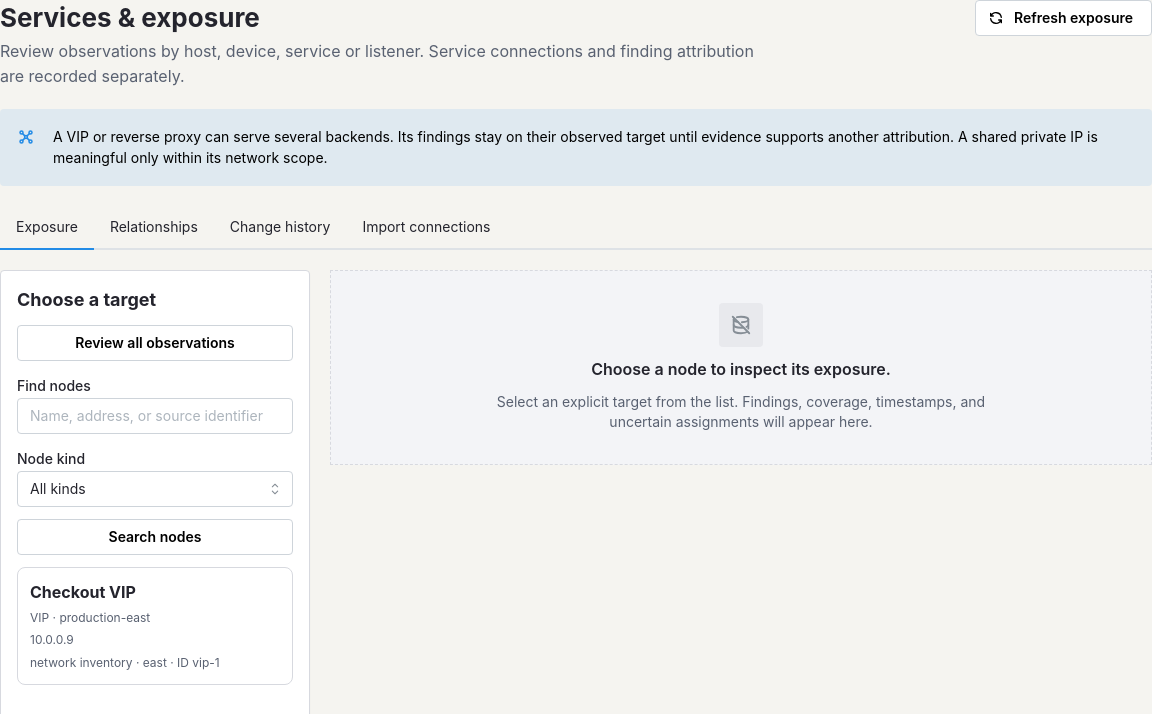
Test: service exposure › can return uncertain evidence to review without choosing a target
This screenshot has width=1152, height=714.
Click the button with aria-label "Select Checkout VIP". click: [83, 592]
box: [17,567,293,685]
(page scrolled)
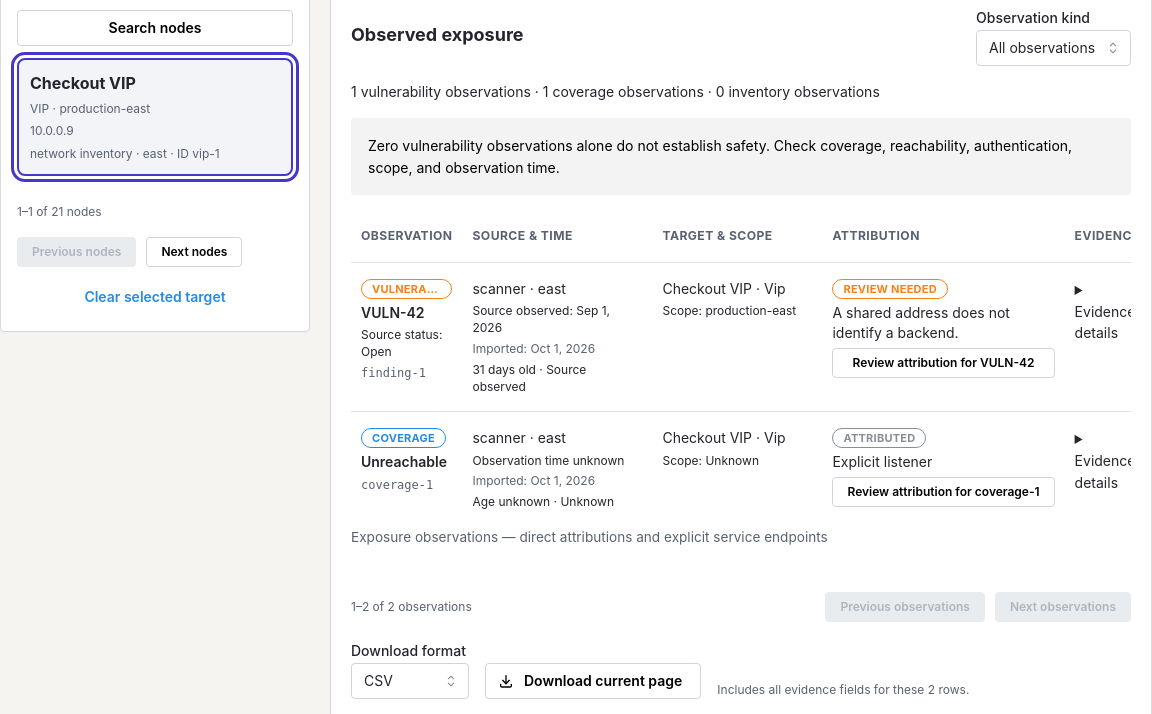
Click the button "Review attribution for VULN-42". click: [944, 363]
box: [832,348,1055,378]
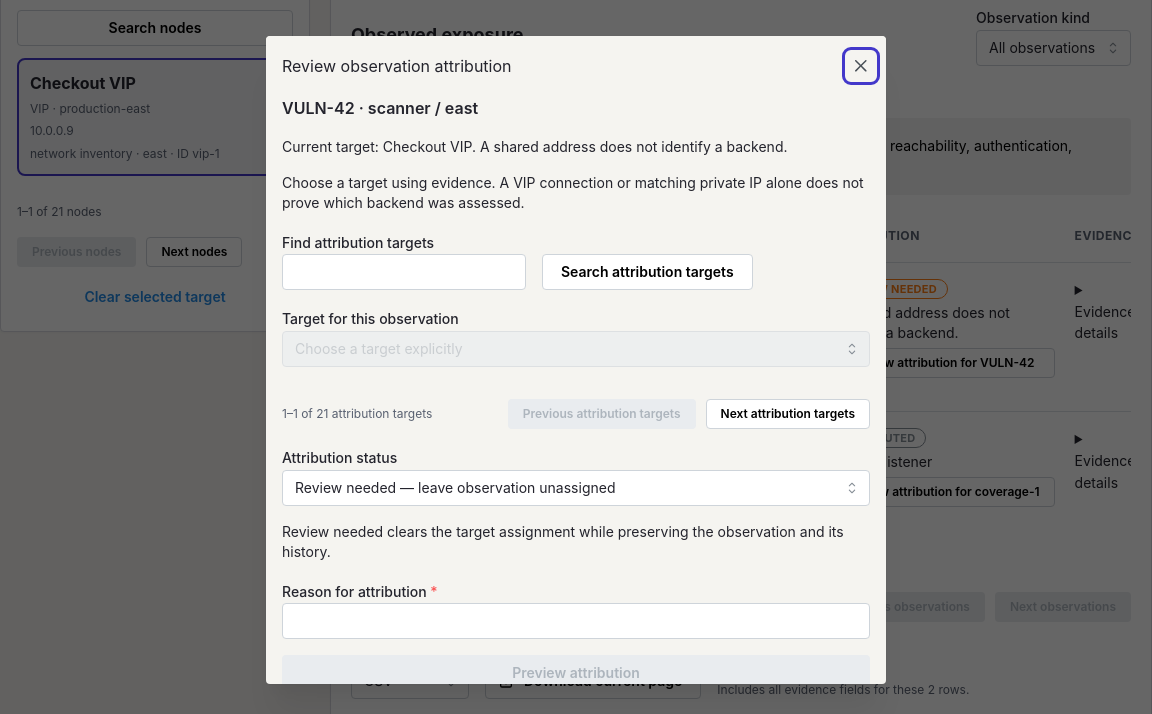
Type "The target is uncertain; await owner evidence." into the field labelled "Reason for attribution". click: [576, 622]
box: [282,604,870,640]
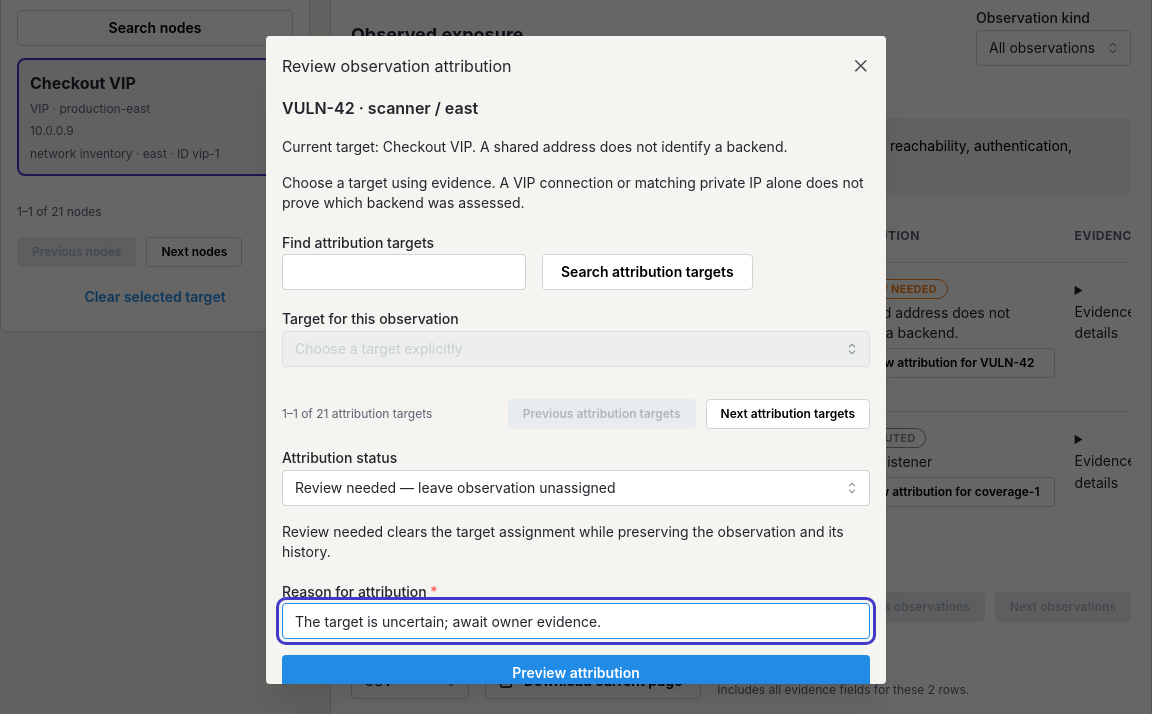
Click the button "Preview attribution". click: [576, 674]
box: [282,656,870,692]
(page scrolled)
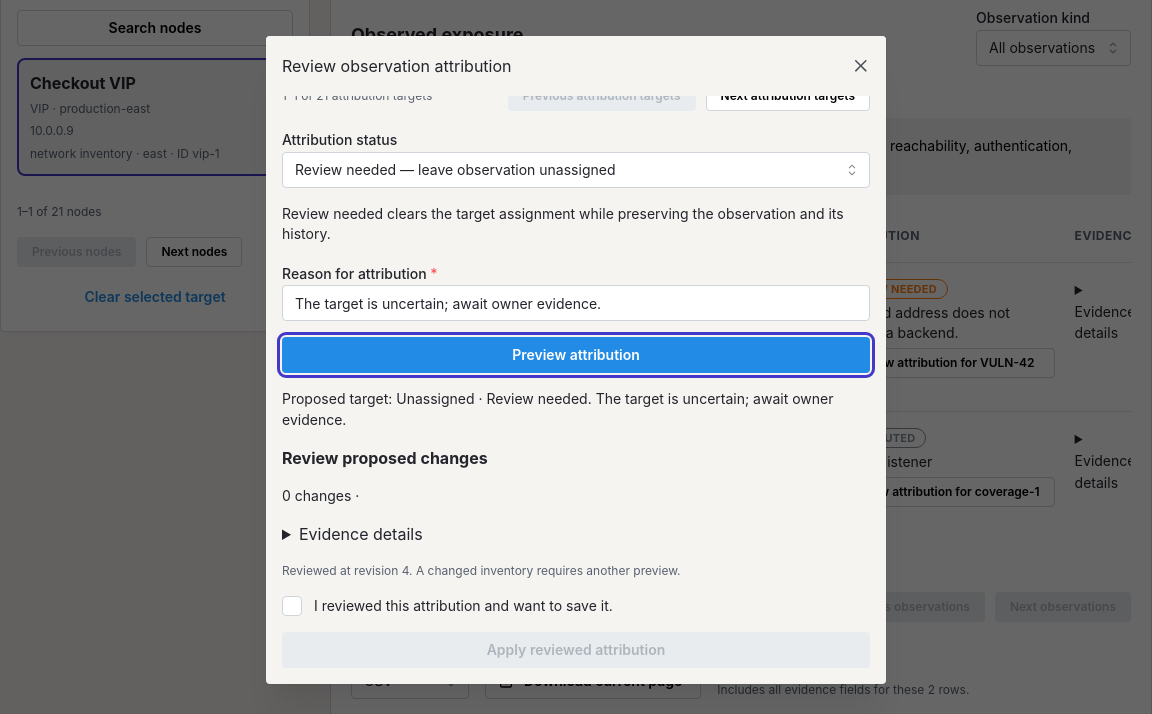
expect the button "Apply reviewed attribution" is shown: met, box [282,632,870,668]
